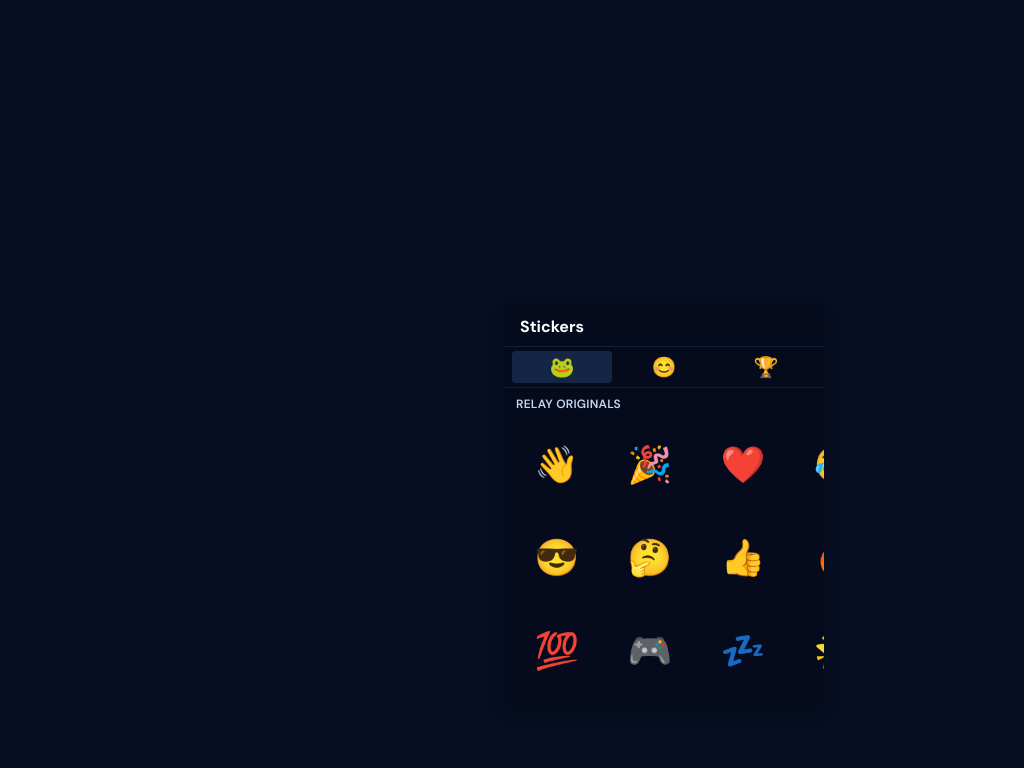
Test: StickerPicker › switches category on tab click
Click the tab named "Expressions" at {"x": 664, "y": 367}, box 614,351 -> 714,383
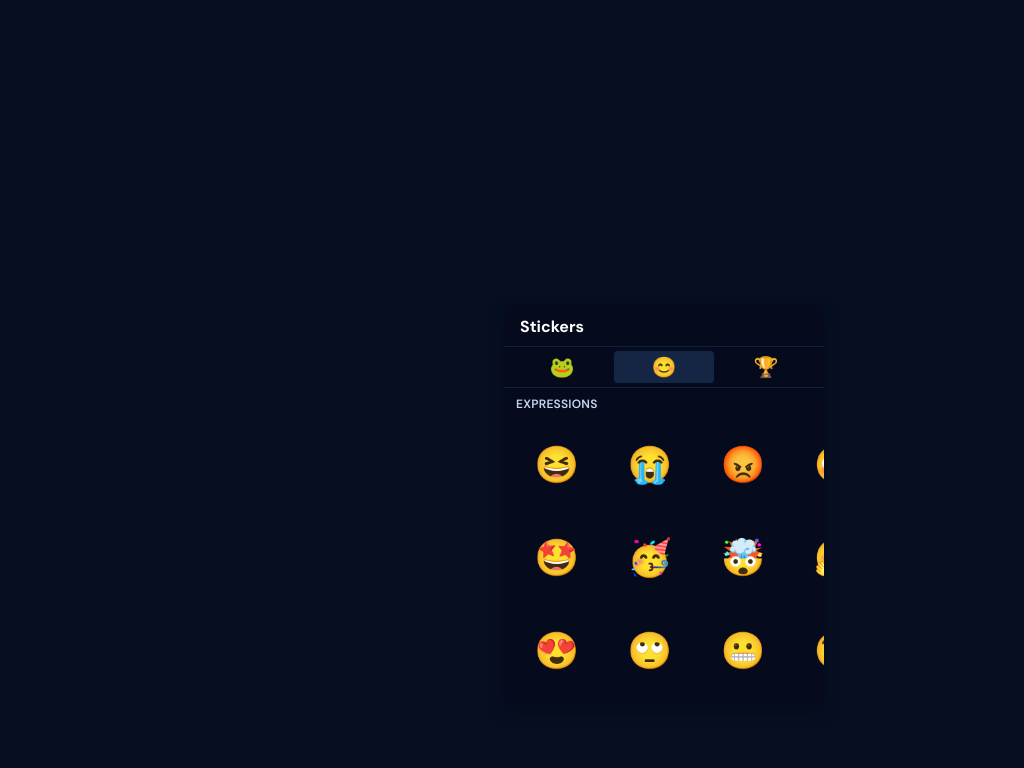
Check: the text "Expressions" is shown, box 516,396 -> 598,412
